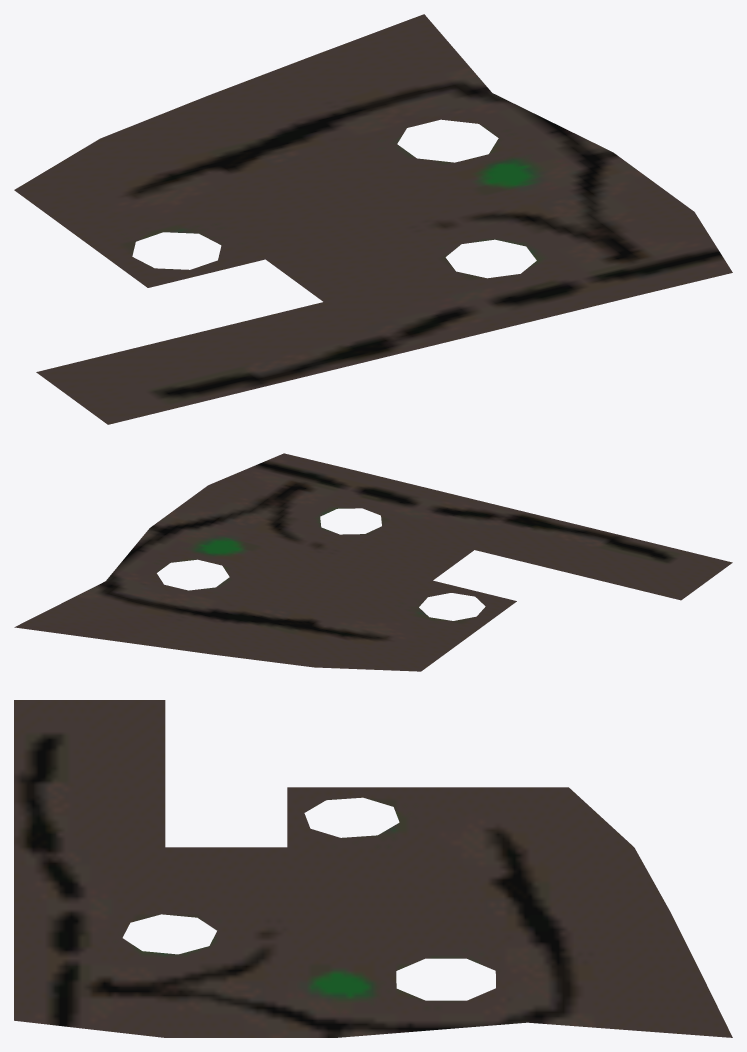
File: cparkgmaumk_lan.obj
3 views of the same model, one above another, from view 1: azimuth 30°, elevation 25°; view 2: azimuth 150°, elevation 25°; view 3: azimuth 270°, elevation 25° (orthographic). The views are drawn at different scales.
Visible parts, largest first — view 1: cparkgmaumk_LAN; view 2: cparkgmaumk_LAN; view 3: cparkgmaumk_LAN.
Boxes of the visible parts, x1=… form: cparkgmaumk_LAN: x1=14, y1=14, x2=732, y2=424; cparkgmaumk_LAN: x1=14, y1=453, x2=732, y2=671; cparkgmaumk_LAN: x1=14, y1=700, x2=732, y2=1037.
Size of the model in its own units: 87.12 by 0.0509 by 78.43.
Materials: 1 (1 with a texture image).
